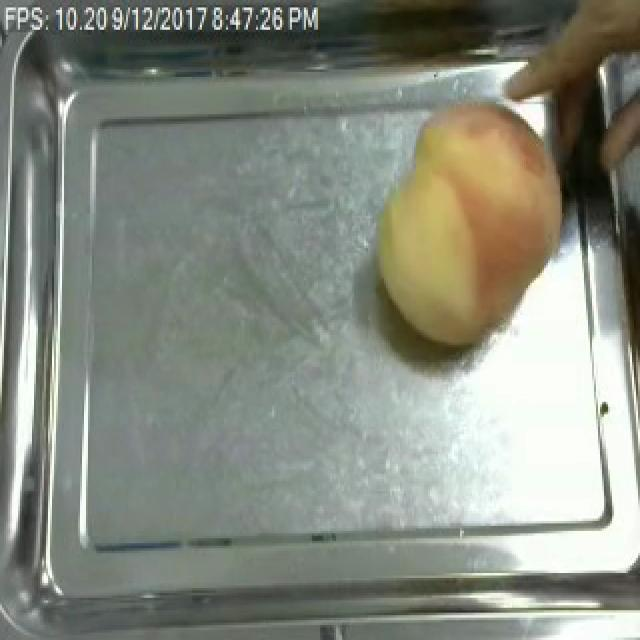Fruit: (362, 87, 580, 357)
